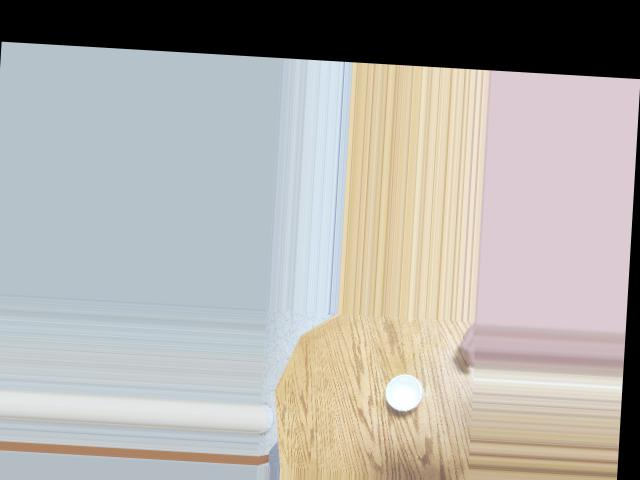cotage: (384, 368, 428, 411)
